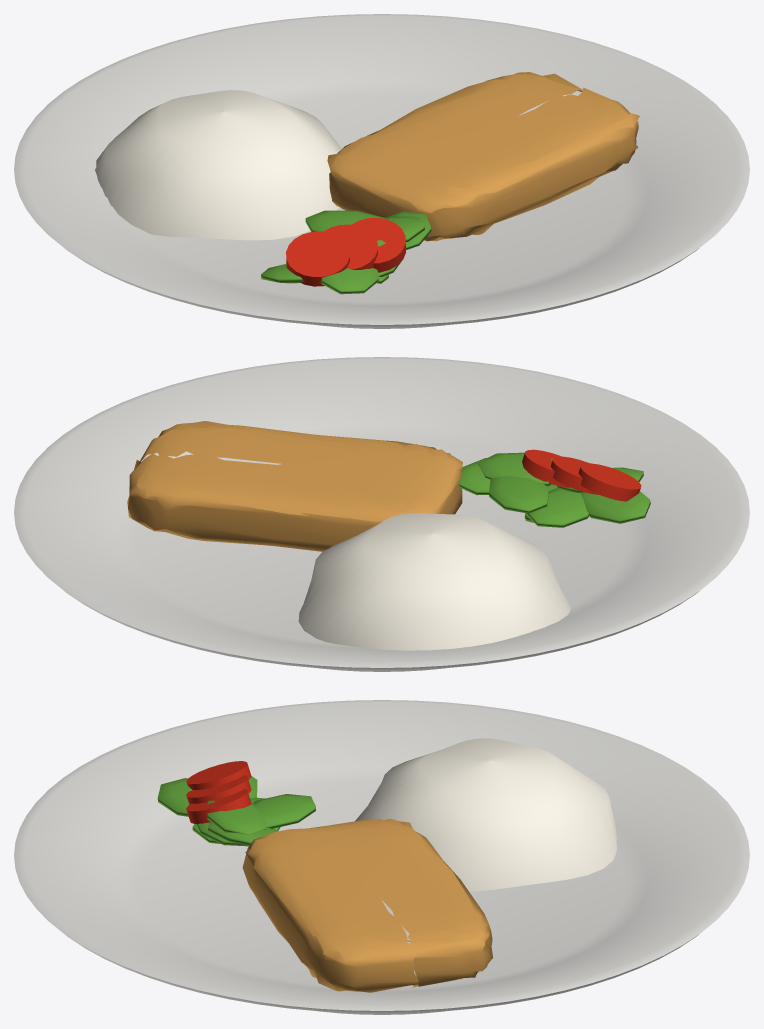
File: prato-frango.glb
3 views of the same model, one above another, from view 1: azimuth 30°, elevation 25°; view 2: azimuth 150°, elevation 25°; view 3: azimuth 270°, elevation 25° (orthographic).
Parts seen in each view (by area): view 1: prato-frango; view 2: prato-frango; view 3: prato-frango.
Part boxes in pixels (x1,y1,x2,y2): prato-frango: (14,14,749,328); prato-frango: (14,357,749,671); prato-frango: (14,700,749,1014).
Size of the model in its own units: 0.274 by 0.042 by 0.274.
